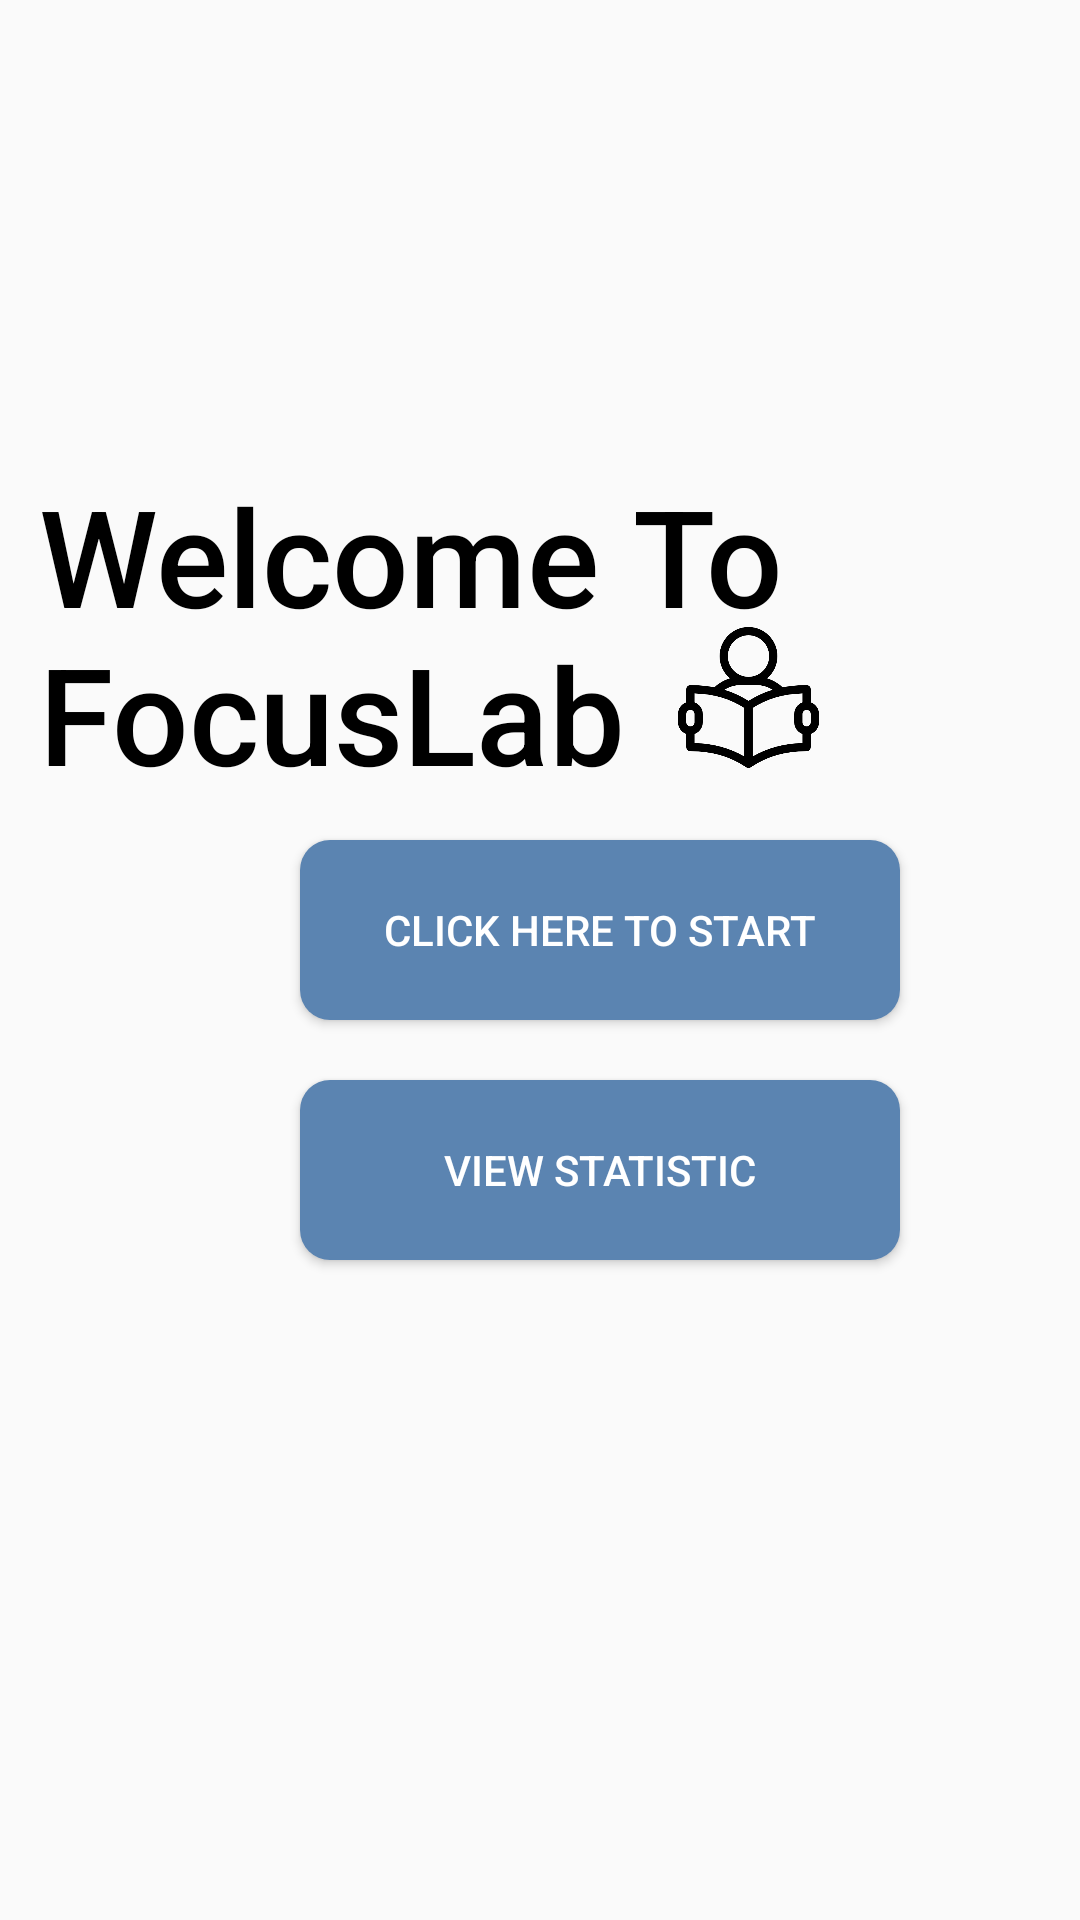

Screen size 1080px×1920px. Icon name, then its center in pixels as (x,y):
studying: (748,697)
